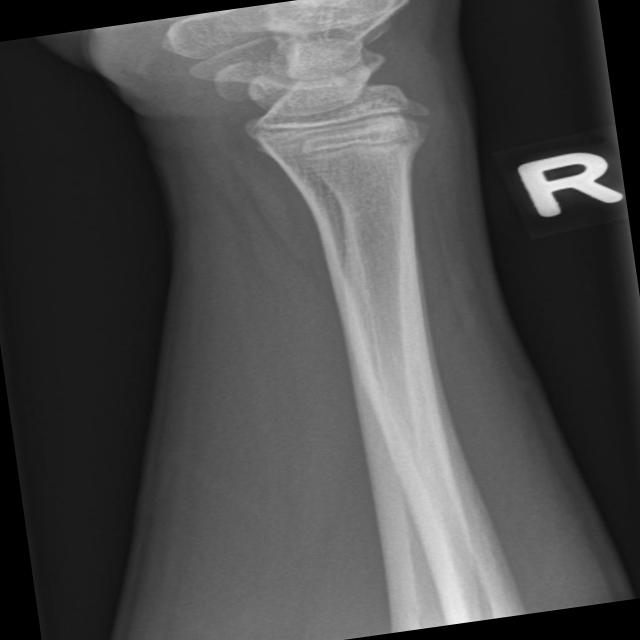fracture: (229, 86, 448, 152), (262, 112, 442, 180)
